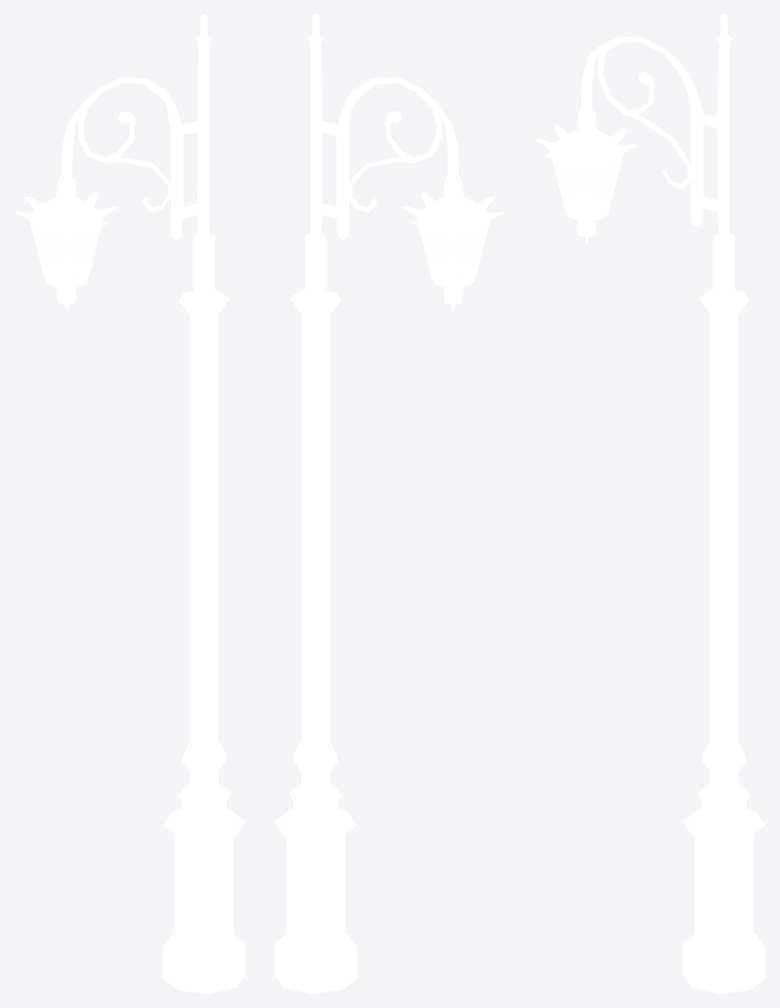
The model's file is street-lamp.glb.
The picture shows the model from 3 angles, left to right: view 1: azimuth 30°, elevation 25°; view 2: azimuth 150°, elevation 25°; view 3: azimuth 330°, elevation 25°; orthographic projection.
Visible parts, largest first — view 1: LampPost_LPoly__0; view 2: LampPost_LPoly__0; view 3: LampPost_LPoly__0.
Part boxes in pixels (x1=…): LampPost_LPoly__0: x1=15, y1=14, x2=245, y2=993; LampPost_LPoly__0: x1=274, y1=14, x2=505, y2=993; LampPost_LPoly__0: x1=534, y1=14, x2=765, y2=993.
Size of the model in its own units: 109 by 469 by 43.07.
1 material, 1 textured.
